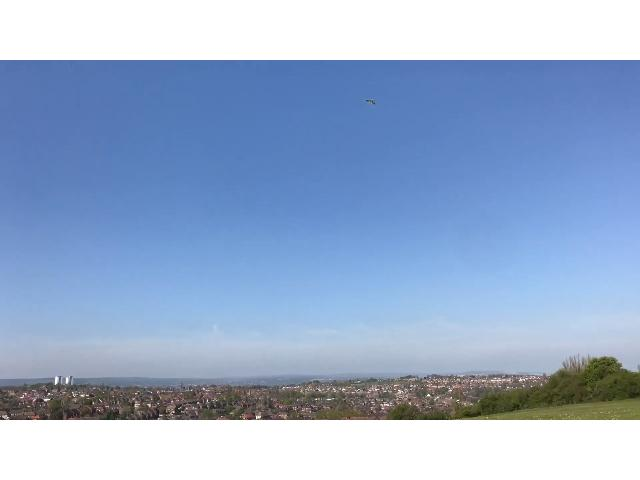Anti-Drone: (354, 95, 382, 109)
